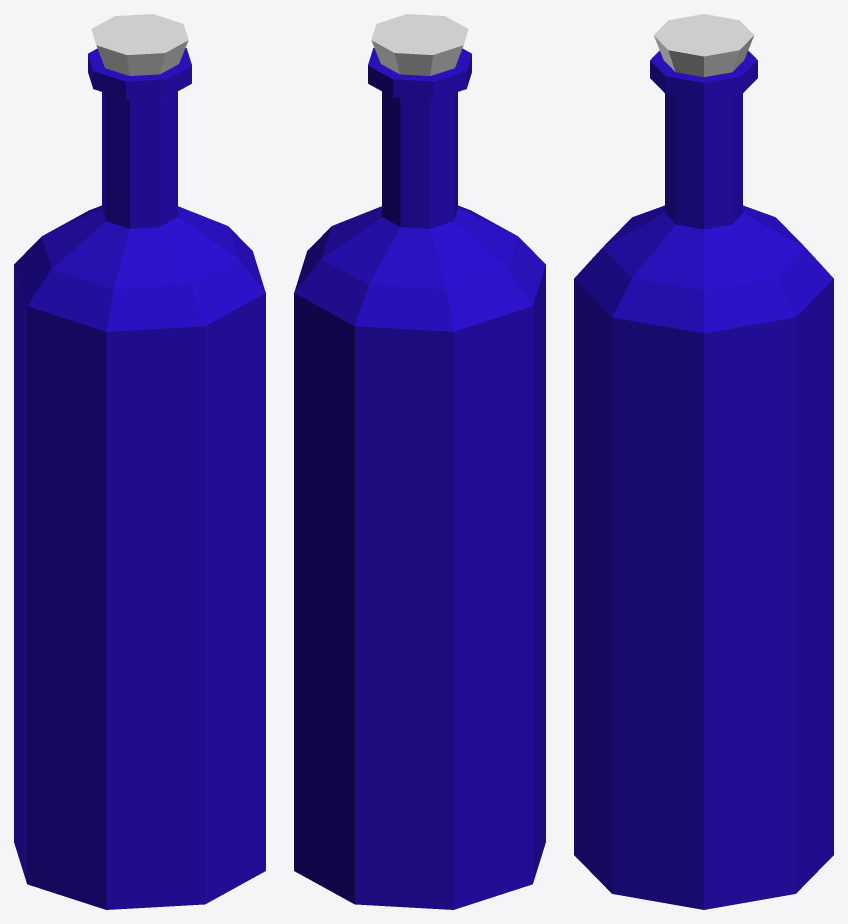
File: Bottle.fbx
The picture shows the model from 3 angles, left to right: view 1: azimuth 30°, elevation 25°; view 2: azimuth 150°, elevation 25°; view 3: azimuth 270°, elevation 25°; orthographic projection.
Parts seen in each view (by area): view 1: Cylinder.113, Cylinder.114; view 2: Cylinder.113, Cylinder.114; view 3: Cylinder.113, Cylinder.114.
Boxes of the visible parts, box(x1,y1,x2,y2) form: Cylinder.113: box(14, 48, 265, 909); Cylinder.114: box(91, 14, 188, 75); Cylinder.113: box(294, 48, 545, 909); Cylinder.114: box(371, 14, 468, 75); Cylinder.113: box(574, 50, 833, 909); Cylinder.114: box(653, 14, 754, 76).
Bounding box in the file's own units: 200 × 200 × 704.
